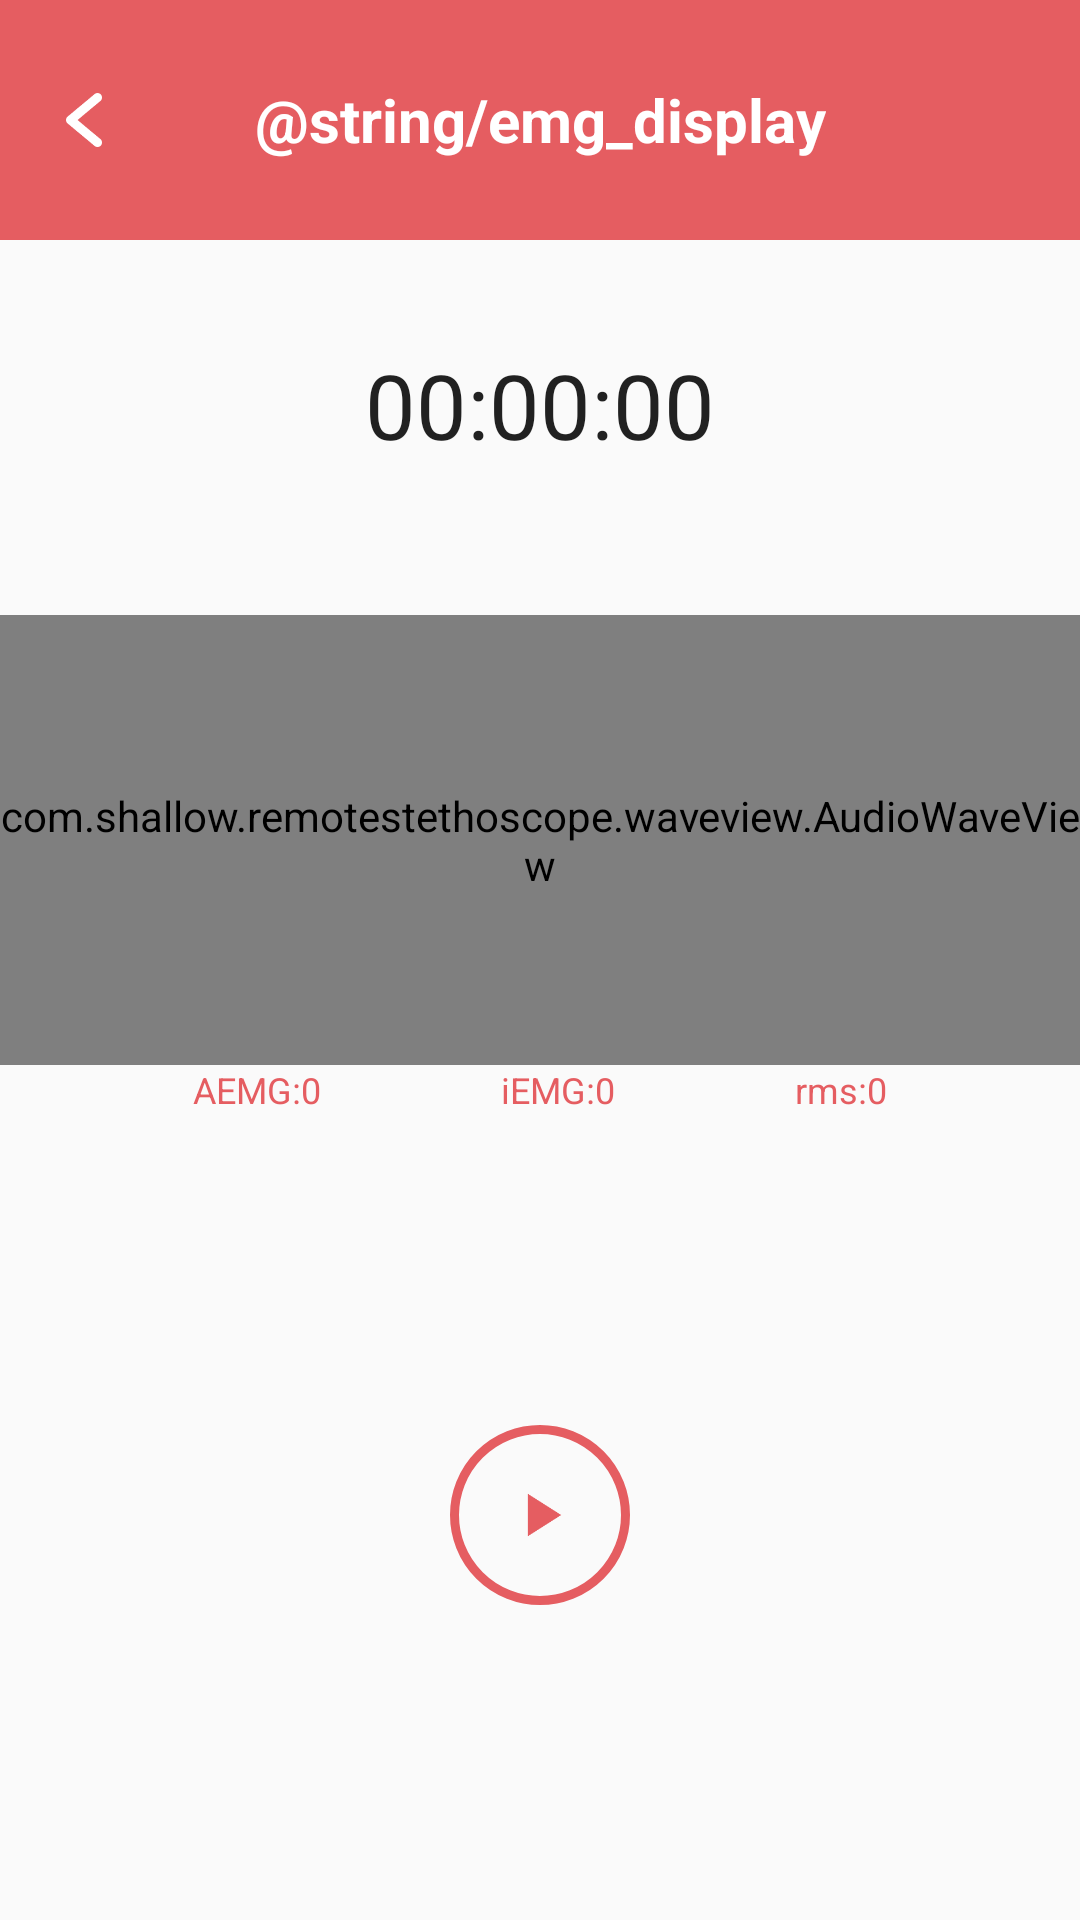

Point at icon controls on the screen. Image size 1080w x 1920h, points as point (x, y).
play arrow: point (540, 1515)
